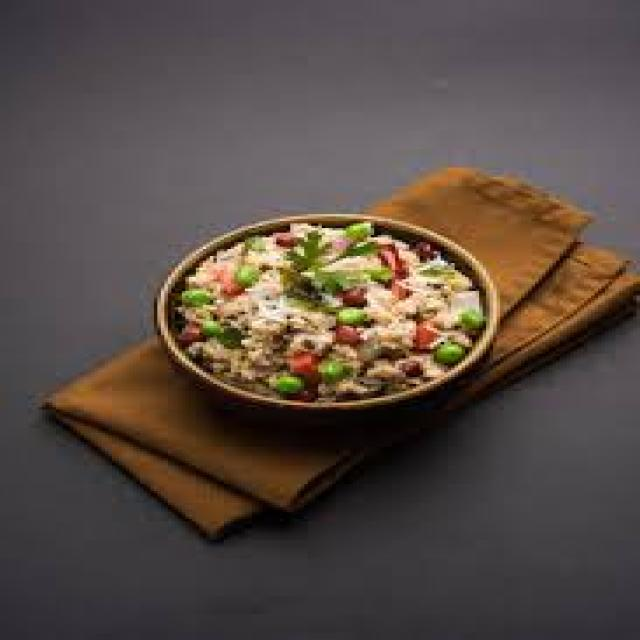POHA: (171, 219, 476, 398)
